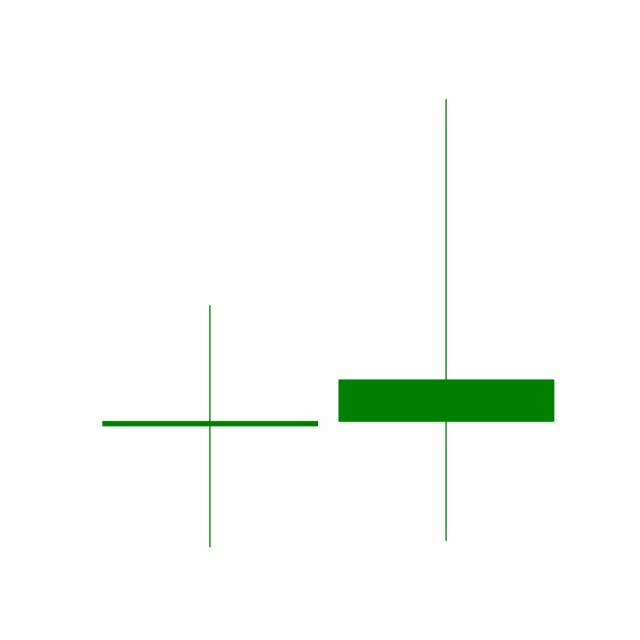Spinning Top: (327, 94, 565, 546)
